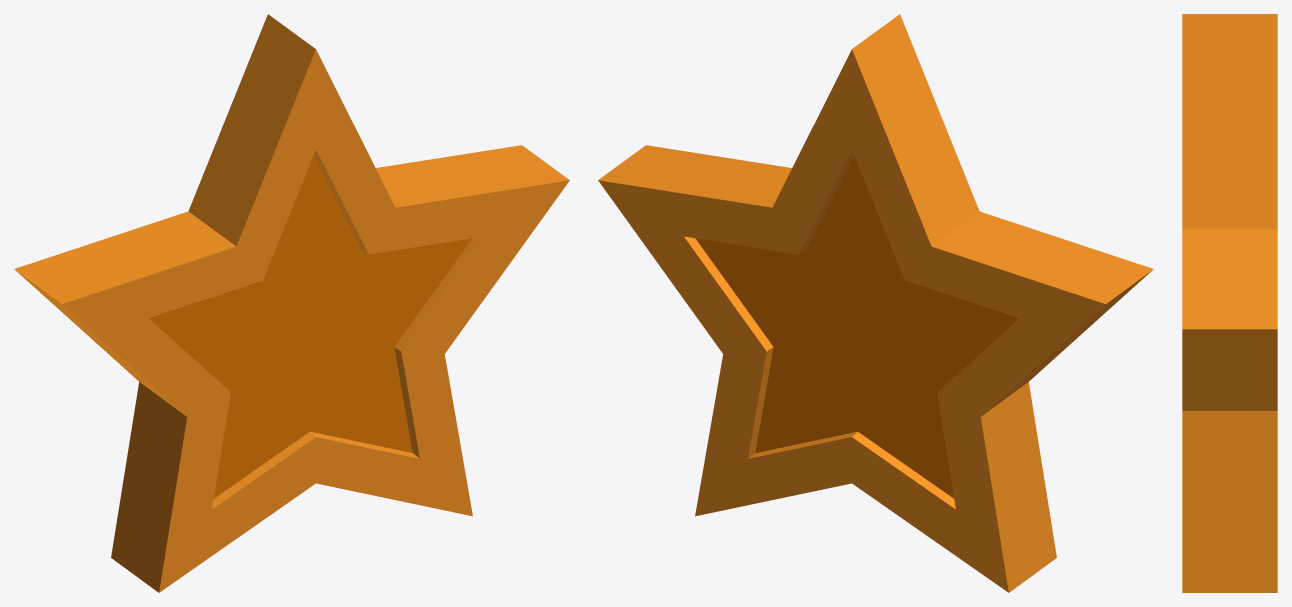
Rendered from SM_Star_01.fbx.
The picture shows the model from 3 angles, left to right: view 1: azimuth 30°, elevation 25°; view 2: azimuth 150°, elevation 25°; view 3: azimuth 270°, elevation 25°; orthographic projection.
Parts seen in each view (by area): view 1: pCylinder1; view 2: pCylinder1; view 3: pCylinder1.
Boxes of the visible parts, <box> form: pCylinder1: <box>14,14,569,592</box>; pCylinder1: <box>598,14,1153,592</box>; pCylinder1: <box>1182,14,1277,592</box>.
Bounding box in the file's own units: 54.97 × 52.28 × 9.01.
